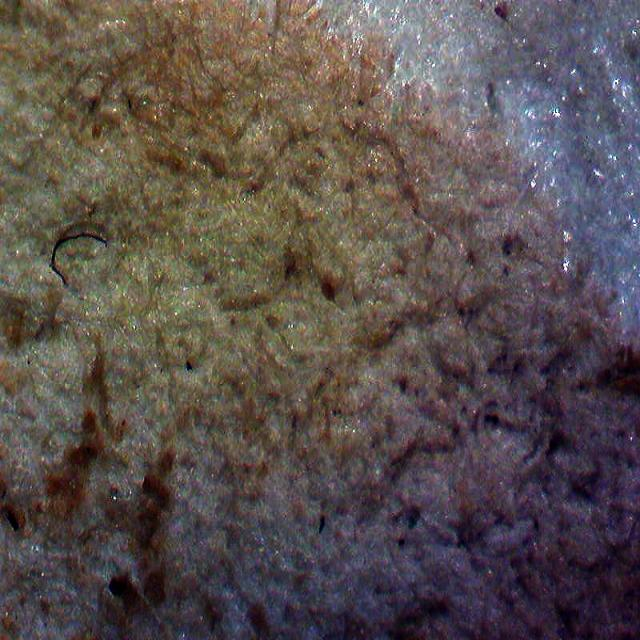microplastic: (37, 213, 112, 287)
